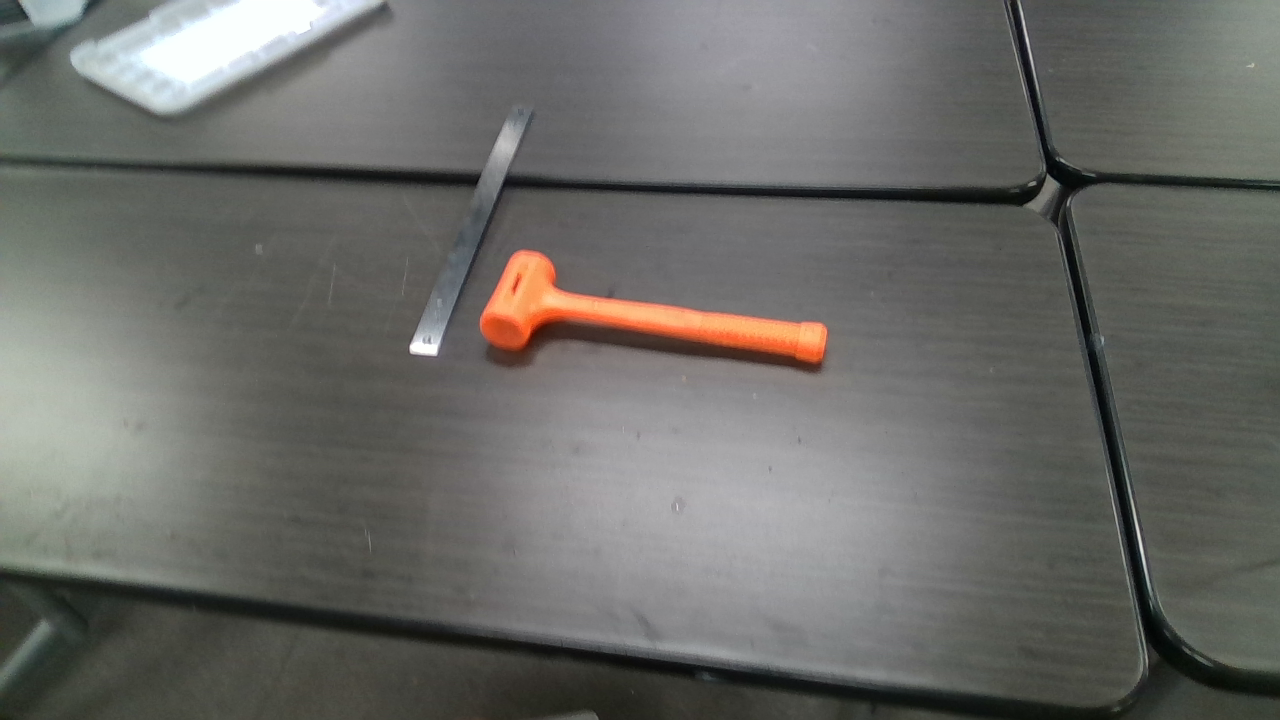Orange Hammer: (482, 252, 825, 366)
